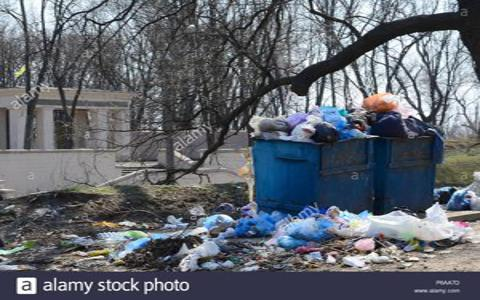overflowing garbage: (249, 111, 387, 253)
